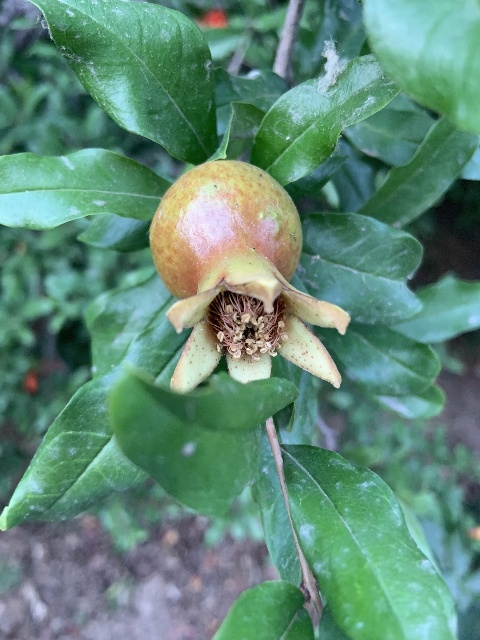early-fruit: (148, 159, 350, 394)
